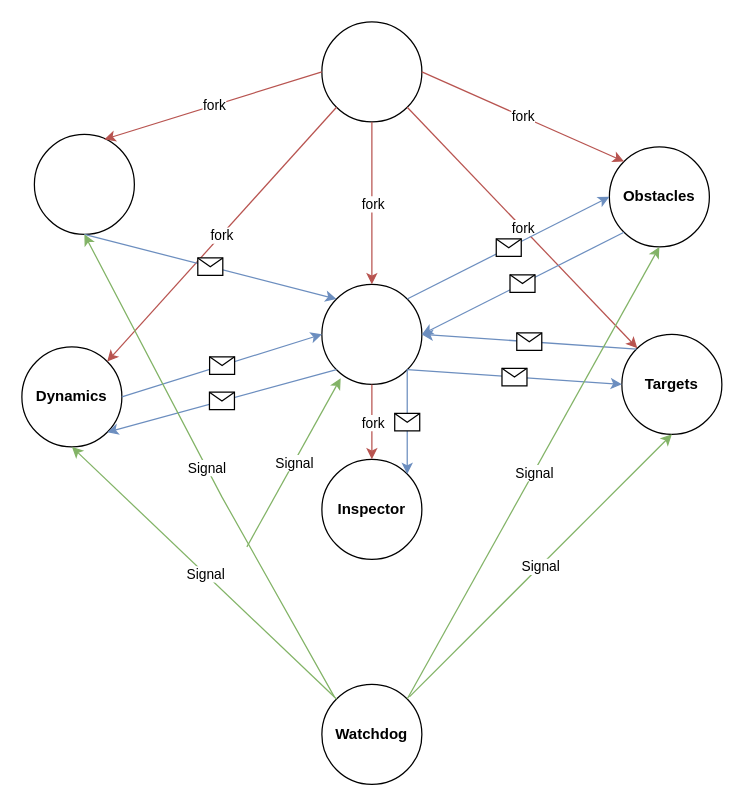
Some shapes in this 744 by 806 pixel diagram are drawn without their labels. The centre of each missing label's shape, as x and y in pixels:
Blackboard: pixel 371 333
Keyboard: pixel 83 183
Main: pixel 371 71
